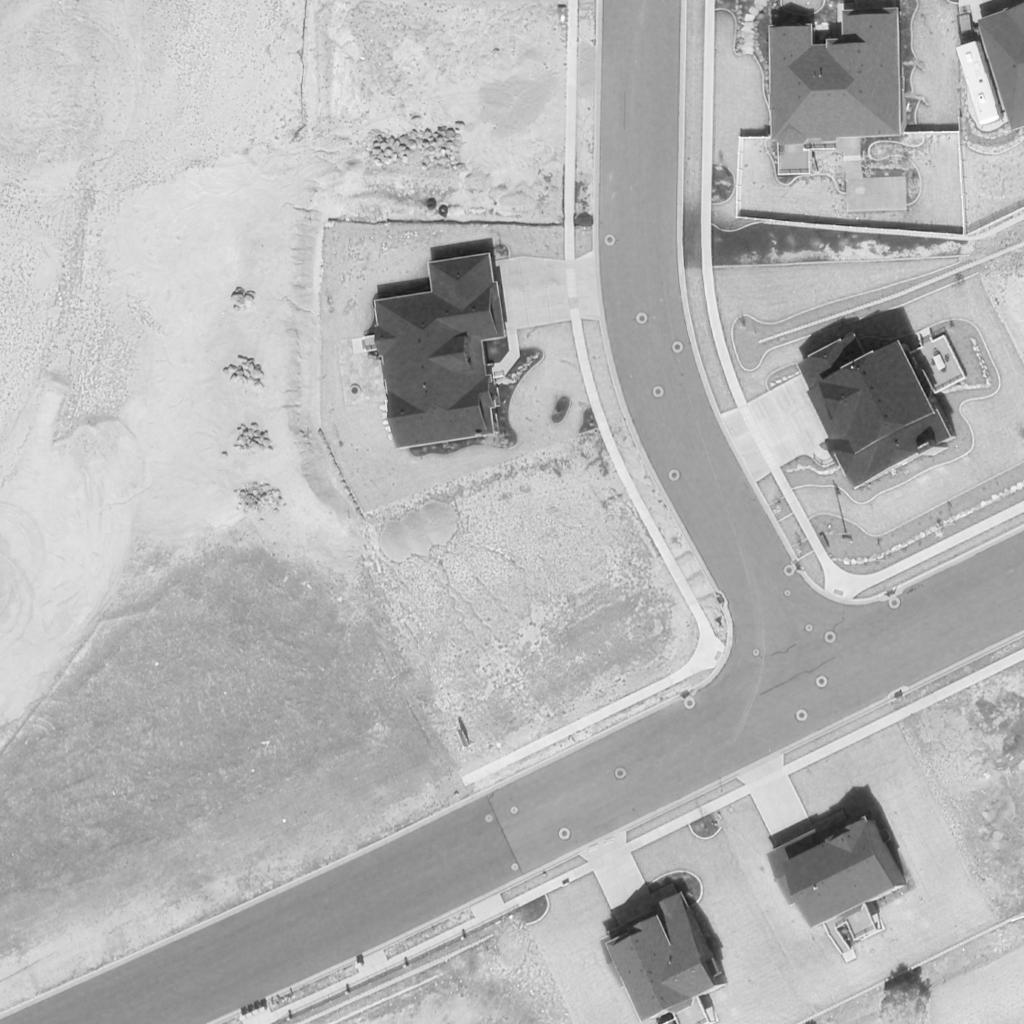vehicle: (956, 44, 1004, 124)
